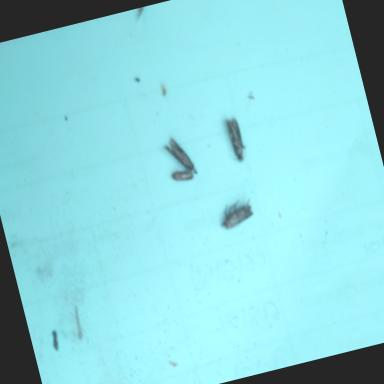pbw: (165, 134, 200, 181), (214, 202, 260, 234), (224, 118, 252, 168), (169, 164, 196, 189)
